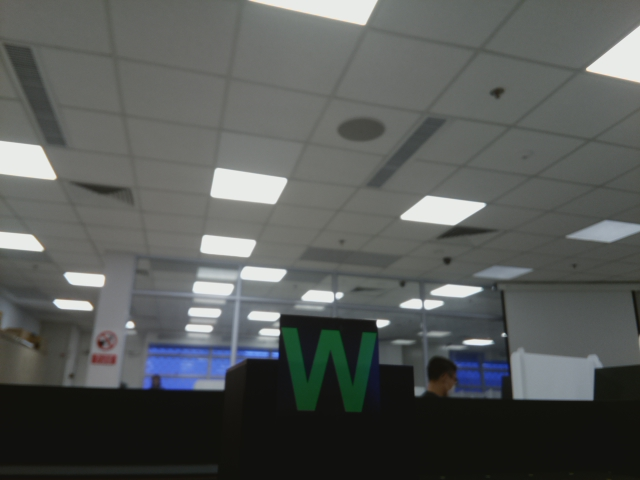w: (279, 323, 381, 414)
